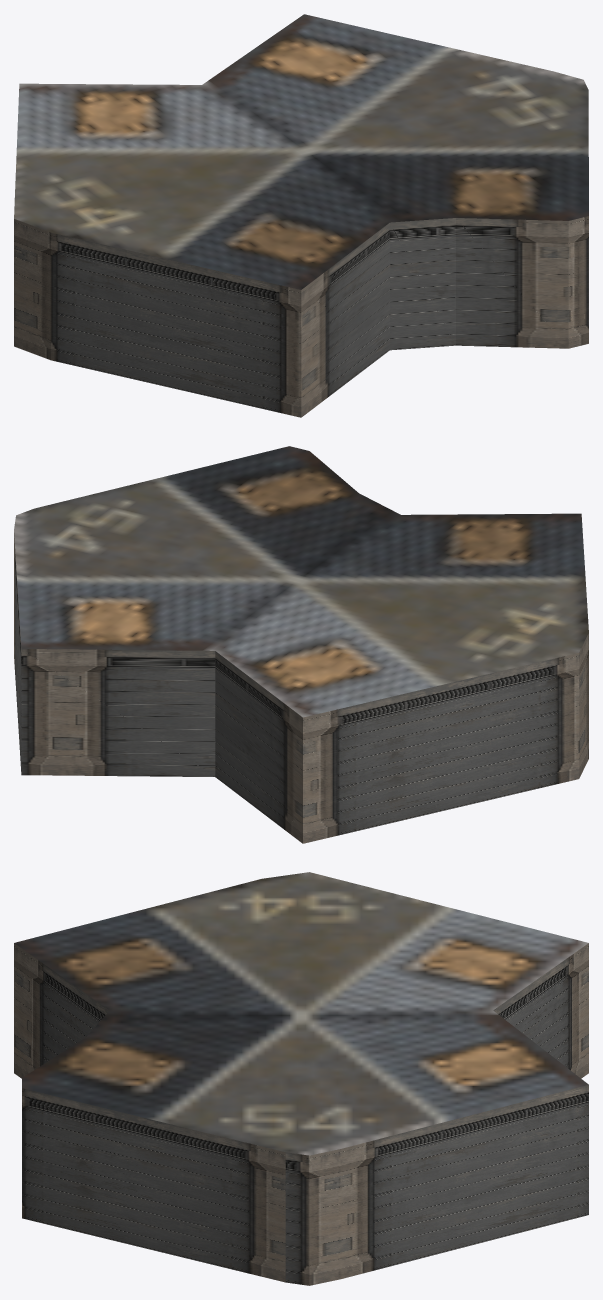
File: hangar_light_a_54.glb
3 views of the same model, one above another, from view 1: azimuth 30°, elevation 25°; view 2: azimuth 150°, elevation 25°; view 3: azimuth 270°, elevation 25° (orthographic). The views are drawn at different scales.
Parts seen in each view (by area): view 1: buildings/saxarba/hangar_light/hangar_light_a_54; view 2: buildings/saxarba/hangar_light/hangar_light_a_54; view 3: buildings/saxarba/hangar_light/hangar_light_a_54.
Boxes of the visible parts, x1,y1,x2,y2 form: buildings/saxarba/hangar_light/hangar_light_a_54: (14,14,588,417); buildings/saxarba/hangar_light/hangar_light_a_54: (14,446,588,843); buildings/saxarba/hangar_light/hangar_light_a_54: (14,872,588,1285).
Bounding box in the file's own units: 84 × 18 × 72.
